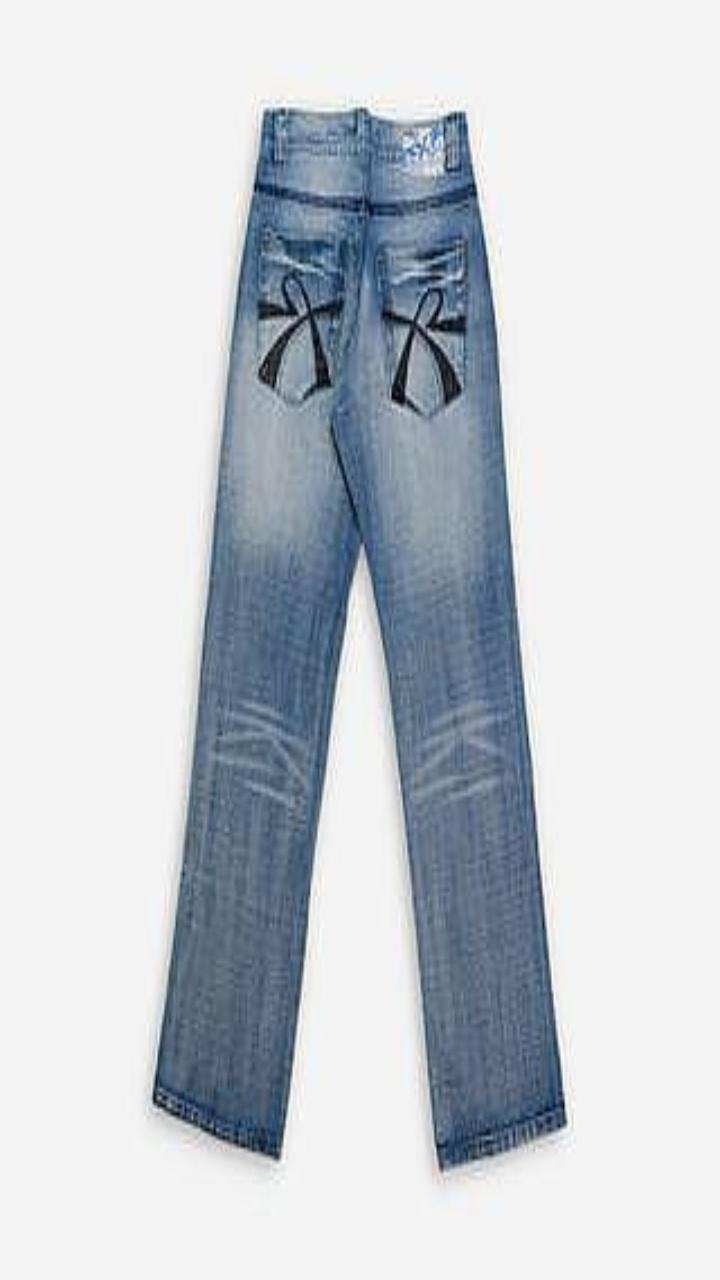Jeans: (154, 109, 564, 1167)
